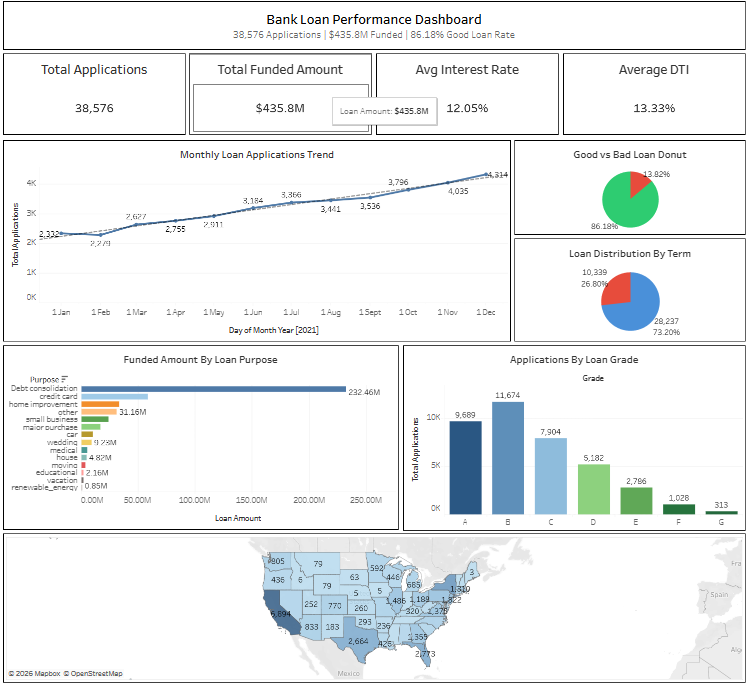

The page's visual inventory and layout, read from the dashboard file:
{"tool":"tableau","page":{"name":"SUMMARY","canvas":[1600,900],"ordinal":2},"visuals":[{"type":"image","param":"C:/Users/Admin/Desktop/SQL_Projects/Bank Loan Analysis/Tableau Background 1.jpg","box":[8,8,1584,884]},{"type":"text","box":[566,11,627,74]},{"type":"image","param":"C:/Users/Admin/Desktop/SQL_Projects/Bank Loan Analysis/bank_logo.jpg","box":[43,82,190,112]},{"type":"worksheet","title":"Total Loan Applications","mark":"Automatic","box":[265,97,245,86]},{"type":"worksheet","title":"AVERAGE D.T.I.","mark":"Automatic","box":[1321,97,247,90]},{"type":"worksheet","title":"TOTAL FUNDED AMOUNT","mark":"Automatic","box":[525,98,249,86]},{"type":"worksheet","title":"TOTAL AMOUNT RECEIVED","mark":"Automatic","box":[791,98,249,87]},{"type":"worksheet","title":"AVERAGE INTEREST RATE","mark":"Automatic","box":[1056,98,249,88]},{"type":"text","box":[249,184,100,30]},{"type":"text","box":[421,184,100,30]},{"type":"text","box":[509,184,100,30]},{"type":"text","box":[690,184,100,30]},{"type":"text","box":[774,184,100,30]},{"type":"text","box":[1221,184,100,30]},{"type":"text","box":[959,185,100,30]},{"type":"text","box":[1038,185,100,30]},{"type":"text","box":[1308,185,100,30]},{"type":"text","box":[1483,185,100,30]},{"type":"worksheet","title":"MOM Loan Application","mark":"Automatic","box":[430,200,86,46]},{"type":"worksheet","title":"MTD Average D.T.I","mark":"Automatic","box":[1319,200,80,47]},{"type":"worksheet","title":"MTD Average Interest Rate","mark":"Automatic","box":[1057,201,66,45]},{"type":"worksheet","title":"MTD Total Loan Applications","mark":"Automatic","box":[245,202,105,41]},{"type":"worksheet","title":"MTD Total Amount Recieved","mark":"Automatic","box":[792,202,63,42]},{"type":"worksheet","title":"MTD Total Funded Amount","mark":"Automatic","box":[527,204,66,40]},{"type":"worksheet","title":"MOM Average Interest Rate","mark":"Automatic","box":[1237,204,71,39]},{"type":"worksheet","title":"MOM Average D.T.I.","mark":"Automatic","box":[1497,204,75,40]},{"type":"worksheet","title":"MOM Total Amount Recieved","mark":"Automatic","box":[971,207,76,36]},{"type":"worksheet","title":"MOM Total Funded Amount","mark":"Automatic","box":[709,208,65,34]},{"type":"dashboard-object","box":[50,239,180,52]},{"type":"worksheet","title":"Bad Loan Issued","mark":"Pie","rows":["Calculation_300615298659069976","Calculation_300615298659069976"],"box":[924,260,304,340]},{"type":"worksheet","title":"Good Loan Issued","mark":"Pie","rows":["Calculation_300615298653732885","Calculation_300615298653732885"],"box":[265,261,311,338]},{"type":"worksheet","title":"Good Loan Application","mark":"Automatic","box":[618,305,289,71]},{"type":"worksheet","title":"Bad Loan Application","mark":"Automatic","box":[1278,305,289,71]},{"type":"dashboard-object","box":[50,315,180,52]},{"type":"worksheet","title":"Good Loan Funded Amount","mark":"Automatic","box":[618,388,289,71]},{"type":"worksheet","title":"Bad Loan Funded Amount ","mark":"Automatic","box":[1278,389,289,71]},{"type":"dashboard-object","box":[50,390,180,52]},{"type":"worksheet","title":"Bad Loan Application %","mark":"Automatic","box":[975,403,206,86]},{"type":"worksheet","title":"GOOD LOAN APPLICATION %","mark":"Automatic","box":[322,405,206,83]},{"type":"worksheet","title":"Good Loan Amount Recieved","mark":"Automatic","box":[618,473,289,71]},{"type":"worksheet","title":"Bad Loan Amount Recieved ","mark":"Automatic","box":[1279,473,289,71]},{"type":"filter","title":"Good Loan Issued","param":"[federated.0acb2y31ccfgxm1fxwtr7176igtj].[none:purpose:nk]","box":[50,494,180,68]},{"type":"filter","title":"Good Loan Issued","param":"[federated.0acb2y31ccfgxm1fxwtr7176igtj].[none:grade:nk]","box":[49,616,180,68]},{"type":"worksheet","title":"LOAN STATUS","mark":"Automatic","rows":["loan_status"],"box":[265,617,1303,263]},{"type":"filter","title":"Good Loan Issued","param":"[federated.0acb2y31ccfgxm1fxwtr7176igtj].[none:verification_status:nk]","box":[49,737,180,68]}]}

Visuals, with their boxes on the page's 1600x900 design canvas (x1, y1, x2, y2). These are canvas units, not pixel positions in the 748x684 screenshot, which may show the page scaled, cropped or inside an application window:
image: bbox=(8, 8, 1592, 892)
text: bbox=(566, 11, 1193, 85)
image: bbox=(43, 82, 233, 194)
"Total Loan Applications" worksheet: bbox=(265, 97, 510, 183)
"AVERAGE D.T.I." worksheet: bbox=(1321, 97, 1568, 187)
"TOTAL FUNDED AMOUNT" worksheet: bbox=(525, 98, 774, 184)
"TOTAL AMOUNT RECEIVED" worksheet: bbox=(791, 98, 1040, 185)
"AVERAGE INTEREST RATE" worksheet: bbox=(1056, 98, 1305, 186)
text: bbox=(249, 184, 349, 214)
text: bbox=(421, 184, 521, 214)
text: bbox=(509, 184, 609, 214)
text: bbox=(690, 184, 790, 214)
text: bbox=(774, 184, 874, 214)
text: bbox=(1221, 184, 1321, 214)
text: bbox=(959, 185, 1059, 215)
text: bbox=(1038, 185, 1138, 215)
text: bbox=(1308, 185, 1408, 215)
text: bbox=(1483, 185, 1583, 215)
"MOM Loan Application" worksheet: bbox=(430, 200, 516, 246)
"MTD Average D.T.I" worksheet: bbox=(1319, 200, 1399, 247)
"MTD Average Interest Rate" worksheet: bbox=(1057, 201, 1123, 246)
"MTD Total Loan Applications" worksheet: bbox=(245, 202, 350, 243)
"MTD Total Amount Recieved" worksheet: bbox=(792, 202, 855, 244)
"MTD Total Funded Amount" worksheet: bbox=(527, 204, 593, 244)
"MOM Average Interest Rate" worksheet: bbox=(1237, 204, 1308, 243)
"MOM Average D.T.I." worksheet: bbox=(1497, 204, 1572, 244)
"MOM Total Amount Recieved" worksheet: bbox=(971, 207, 1047, 243)
"MOM Total Funded Amount" worksheet: bbox=(709, 208, 774, 242)
dashboard-object: bbox=(50, 239, 230, 291)
"Bad Loan Issued" worksheet (Pie marks): bbox=(924, 260, 1228, 600)
"Good Loan Issued" worksheet (Pie marks): bbox=(265, 261, 576, 599)
"Good Loan Application" worksheet: bbox=(618, 305, 907, 376)
"Bad Loan Application" worksheet: bbox=(1278, 305, 1567, 376)
dashboard-object: bbox=(50, 315, 230, 367)
"Good Loan Funded Amount" worksheet: bbox=(618, 388, 907, 459)
"Bad Loan Funded Amount " worksheet: bbox=(1278, 389, 1567, 460)
dashboard-object: bbox=(50, 390, 230, 442)
"Bad Loan Application %" worksheet: bbox=(975, 403, 1181, 489)
"GOOD LOAN APPLICATION %" worksheet: bbox=(322, 405, 528, 488)
"Good Loan Amount Recieved" worksheet: bbox=(618, 473, 907, 544)
"Bad Loan Amount Recieved " worksheet: bbox=(1279, 473, 1568, 544)
"Good Loan Issued" filter: bbox=(50, 494, 230, 562)
"Good Loan Issued" filter: bbox=(49, 616, 229, 684)
"LOAN STATUS" worksheet: bbox=(265, 617, 1568, 880)
"Good Loan Issued" filter: bbox=(49, 737, 229, 805)
